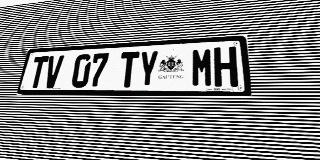0: (71, 54, 92, 88)
7: (88, 53, 109, 88)
H: (214, 46, 238, 87)
M: (191, 48, 214, 87)
T: (118, 51, 140, 87), (28, 56, 49, 88)
V: (43, 55, 64, 88)
Y: (137, 50, 159, 87)
